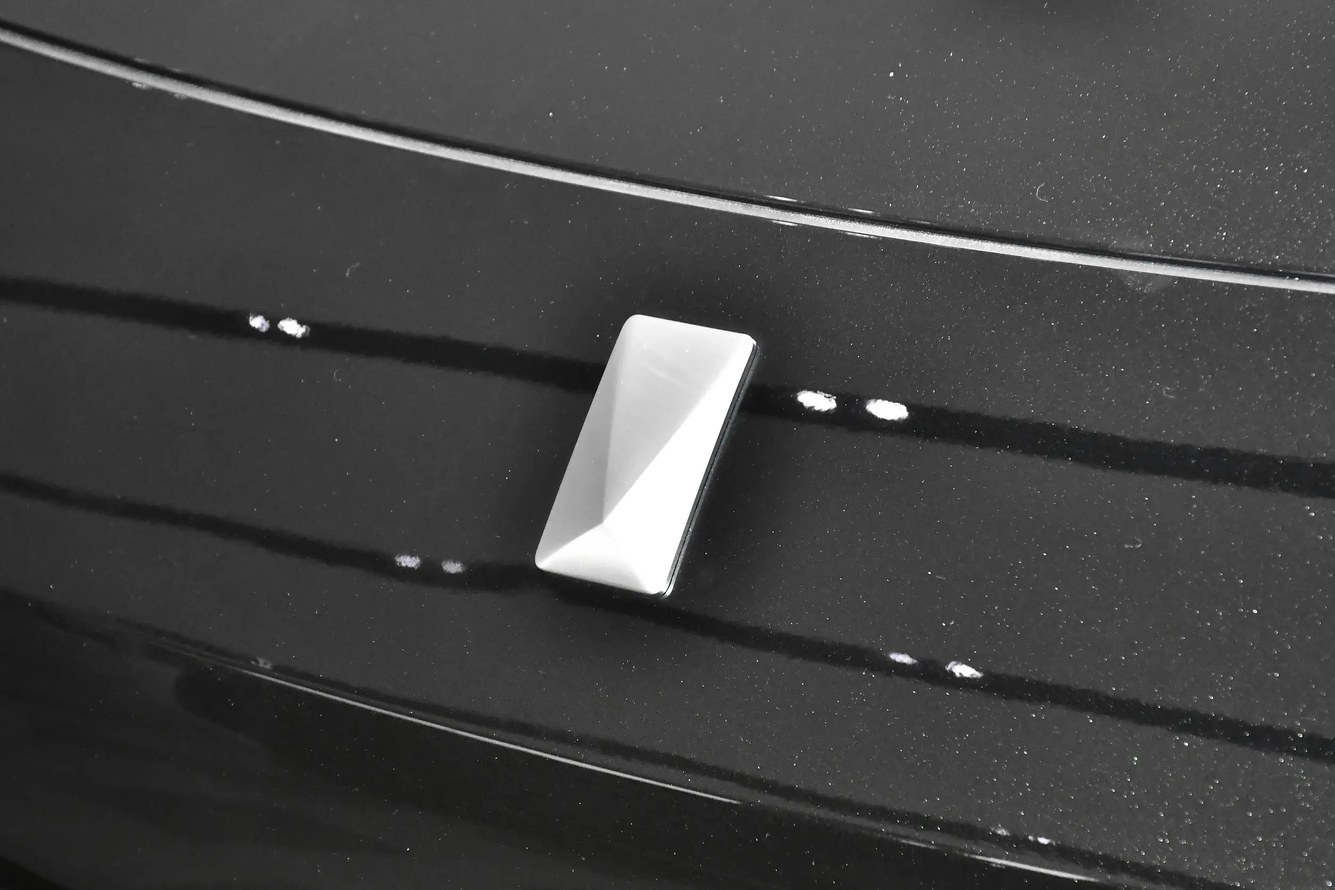AVATR: (534, 315, 757, 599)
